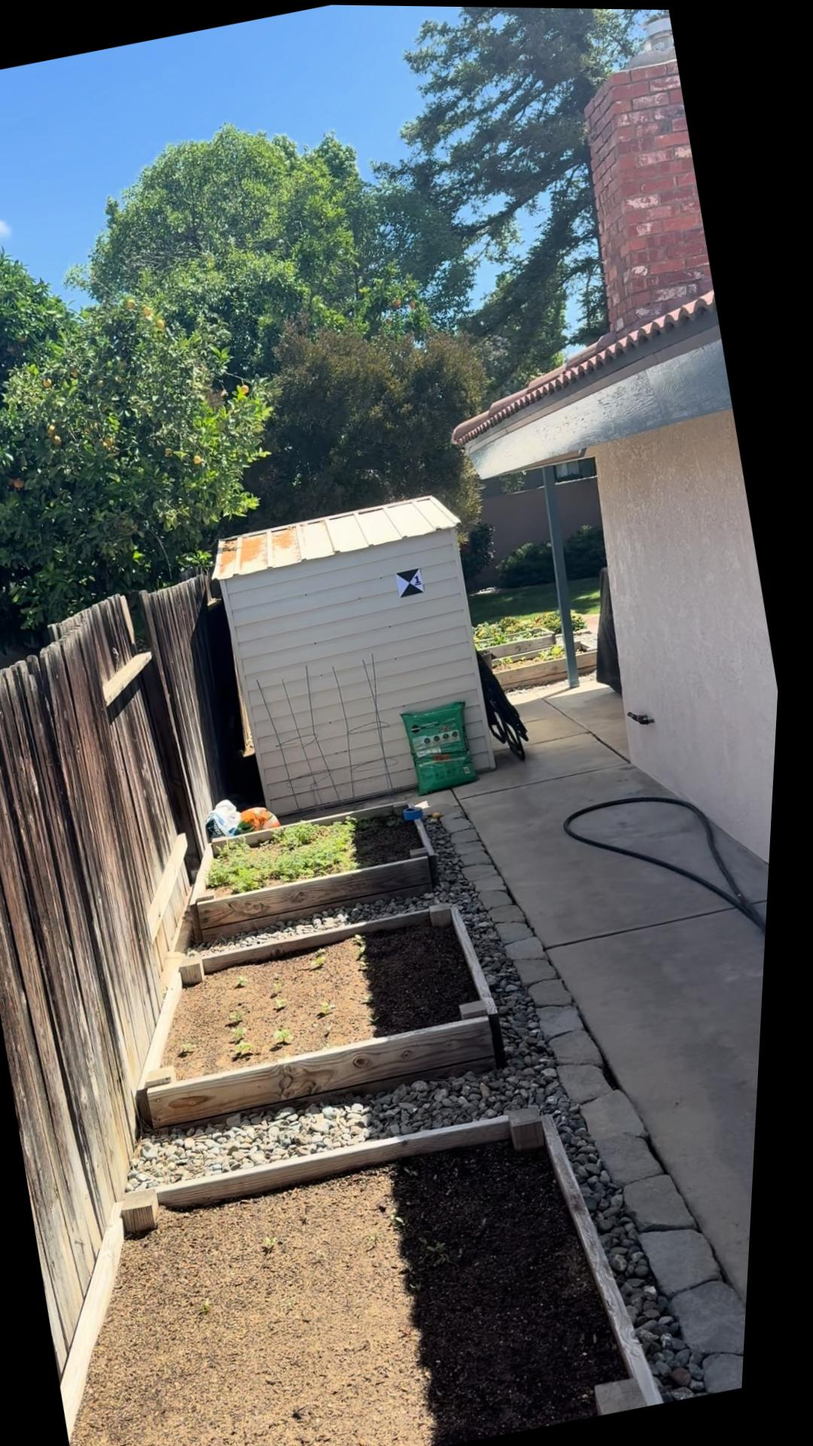target1: (393, 565, 429, 600)
